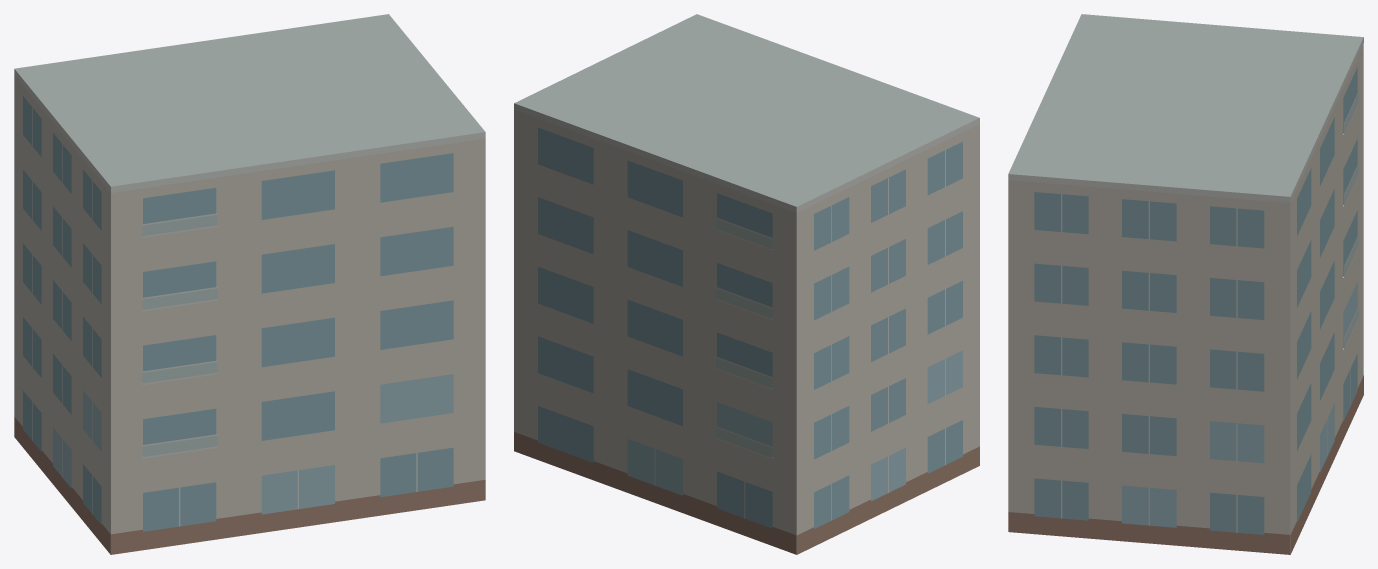
The model's file is survey-upis-32521347.glb.
The picture shows the model from 3 angles, left to right: view 1: azimuth 30°, elevation 25°; view 2: azimuth 150°, elevation 25°; view 3: azimuth 270°, elevation 25°; orthographic projection. The views are drawn at different scales.
Parts seen in each view (by area): view 1: survey-upis-32521347.tmp; view 2: survey-upis-32521347.tmp; view 3: survey-upis-32521347.tmp.
Boxes of the visible parts, x1=… form: survey-upis-32521347.tmp: x1=14, y1=14, x2=485, y2=554; survey-upis-32521347.tmp: x1=514, y1=14, x2=979, y2=554; survey-upis-32521347.tmp: x1=1008, y1=14, x2=1363, y2=554.
Bounding box in the file's own units: 15.57 × 14.2 × 12.79.
